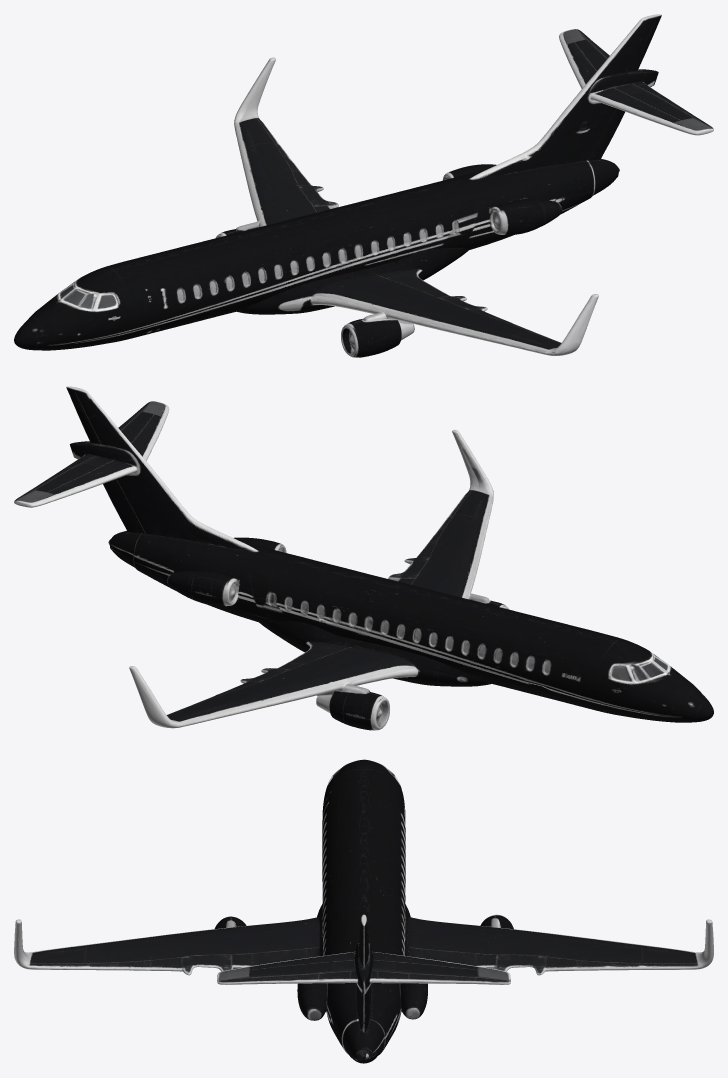
The picture shows the model from 3 angles, top to bottom: view 1: azimuth 30°, elevation 25°; view 2: azimuth 150°, elevation 25°; view 3: azimuth 270°, elevation 25°; orthographic projection. The views are drawn at different scales.
Size of the model in its own units: 1.9 by 0.5863 by 1.67.
Materials: 1 (1 with a texture image).
